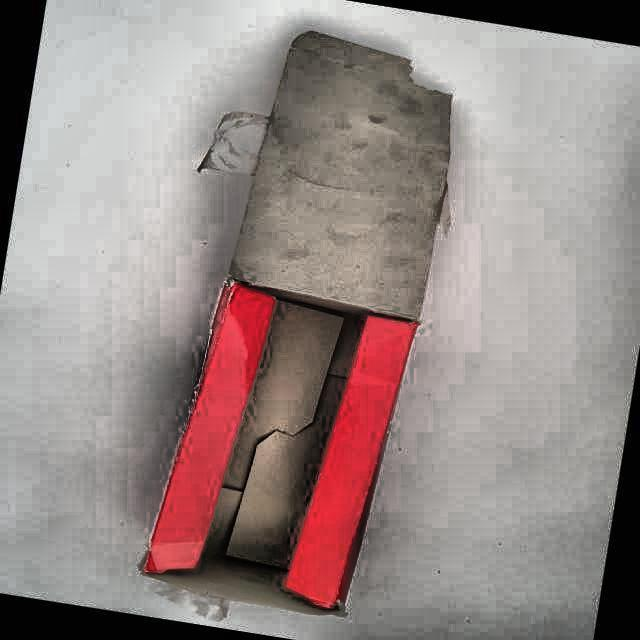cardboard: (140, 31, 453, 620)
